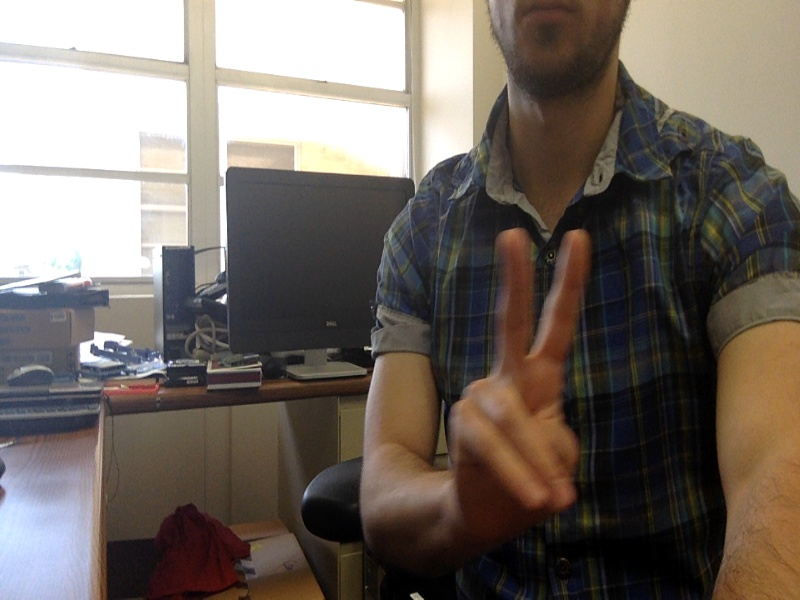2-hand: (443, 229, 594, 541)
